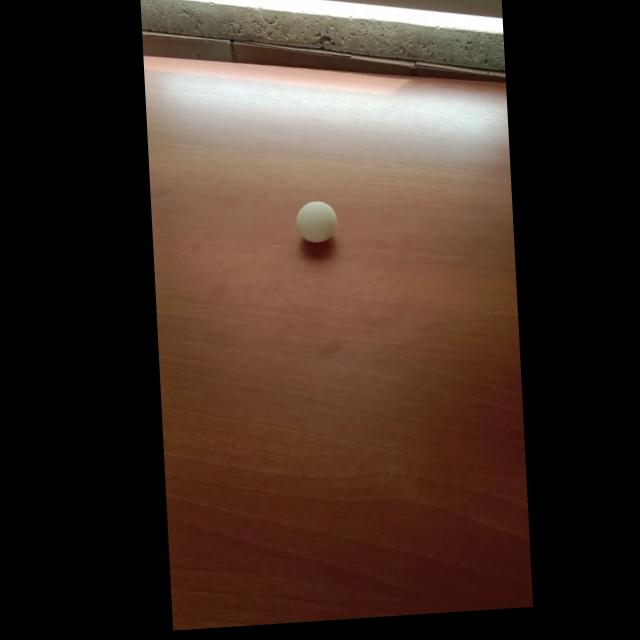white ball: (294, 199, 339, 245)
